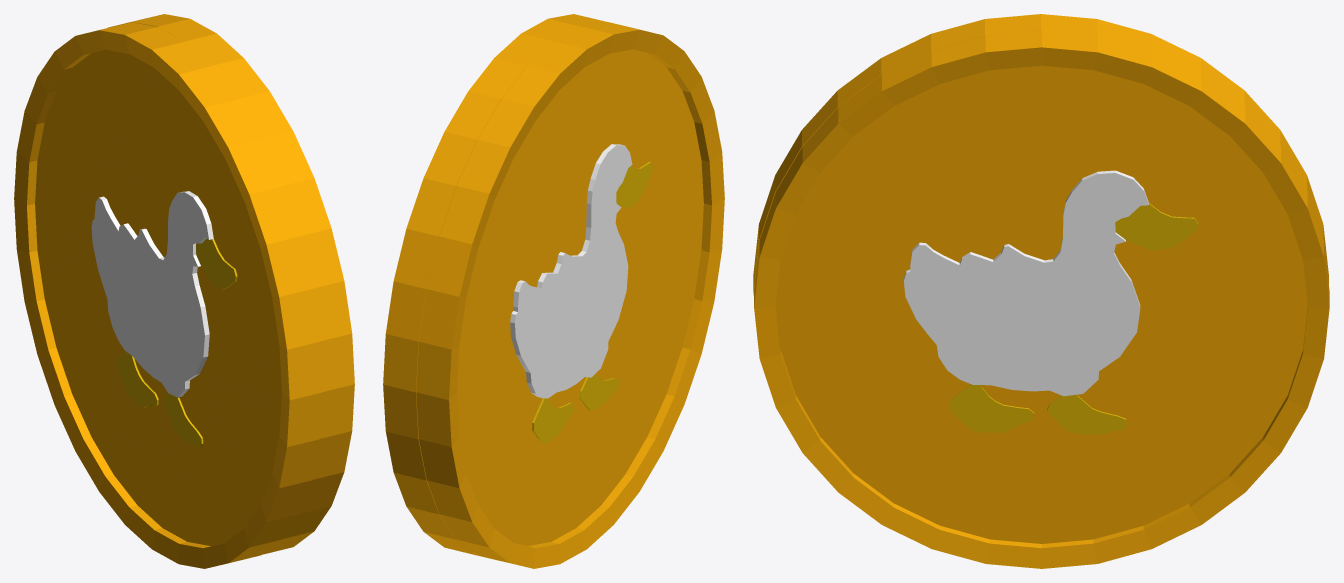
Rendered from Moeda2.fbx.
3 renders of one model, left to right at view 1: azimuth 30°, elevation 25°; view 2: azimuth 150°, elevation 25°; view 3: azimuth 270°, elevation 25°, orthographic. The views are drawn at different scales.
Visible parts, largest first — view 1: MoedaPato; view 2: MoedaPato; view 3: MoedaPato.
Boxes of the visible parts, left/top/right/bottom form: MoedaPato: left=14, top=14, right=354, bottom=568; MoedaPato: left=383, top=14, right=724, bottom=568; MoedaPato: left=753, top=14, right=1329, bottom=568.
Size of the model in its own units: 73.99 by 539 by 540.
